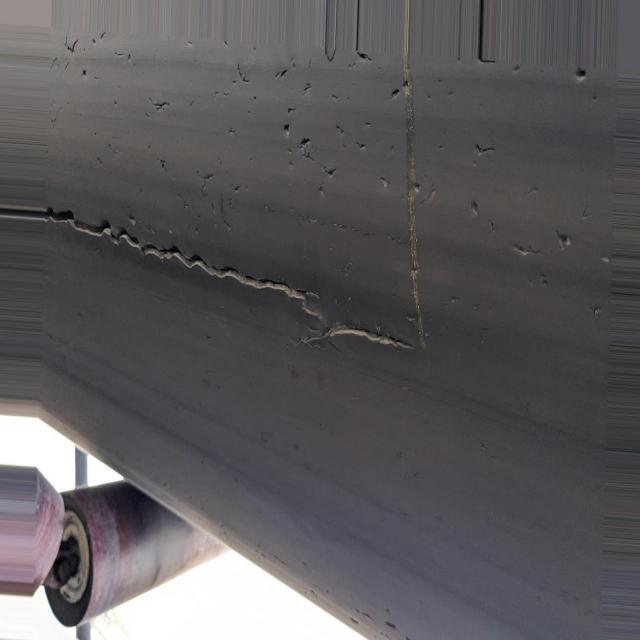Puncture: (510, 225, 580, 278), (266, 62, 296, 84), (461, 194, 486, 218), (574, 59, 592, 89), (353, 47, 375, 70), (277, 118, 296, 141), (293, 132, 314, 152), (318, 166, 344, 180), (74, 62, 92, 81), (407, 178, 428, 193), (385, 84, 402, 101), (399, 74, 415, 91)
Tear: (0, 192, 401, 366), (379, 0, 446, 366), (468, 132, 504, 163), (51, 36, 92, 58), (138, 97, 178, 117)
